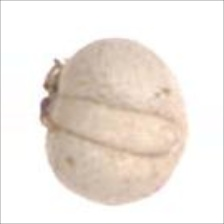L5: (51, 92, 181, 162), (37, 56, 72, 134), (176, 101, 189, 168)
L6: (31, 36, 192, 211)
